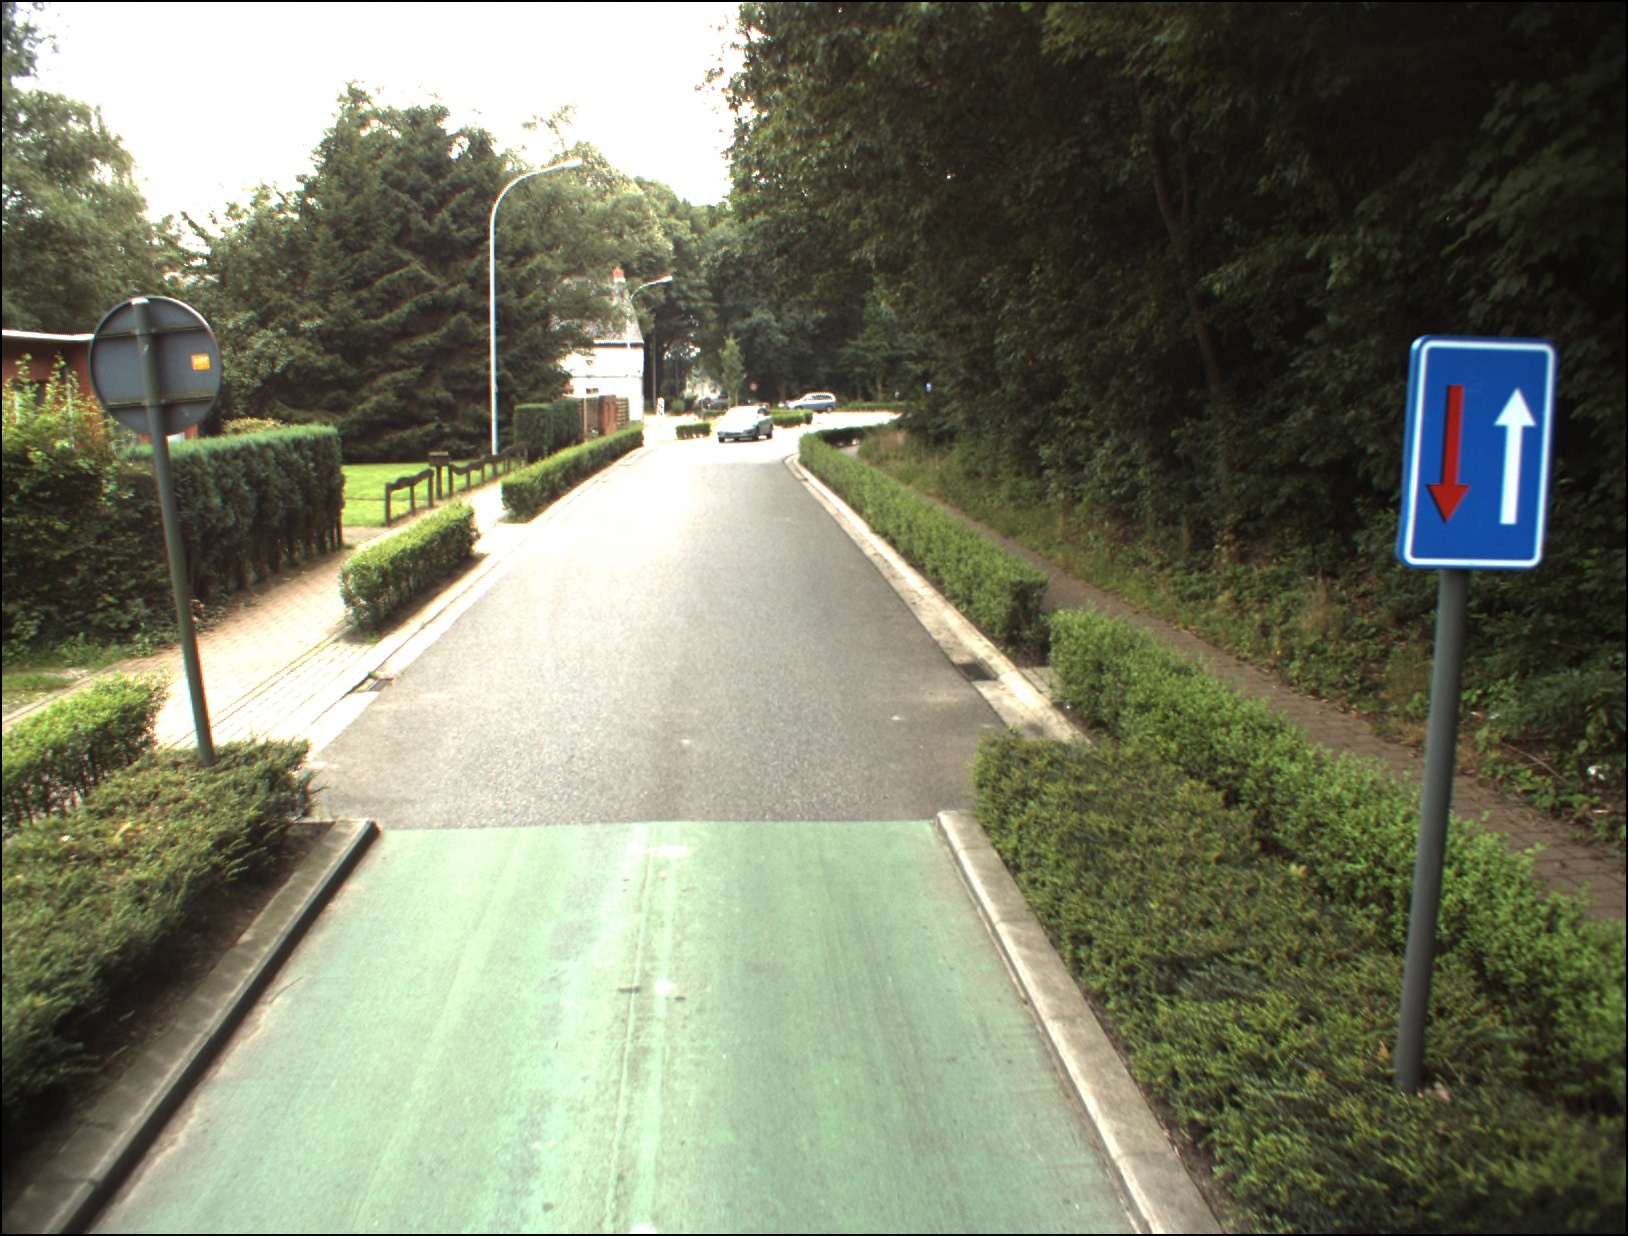roadnarrow1: (1414, 341, 1548, 562)
